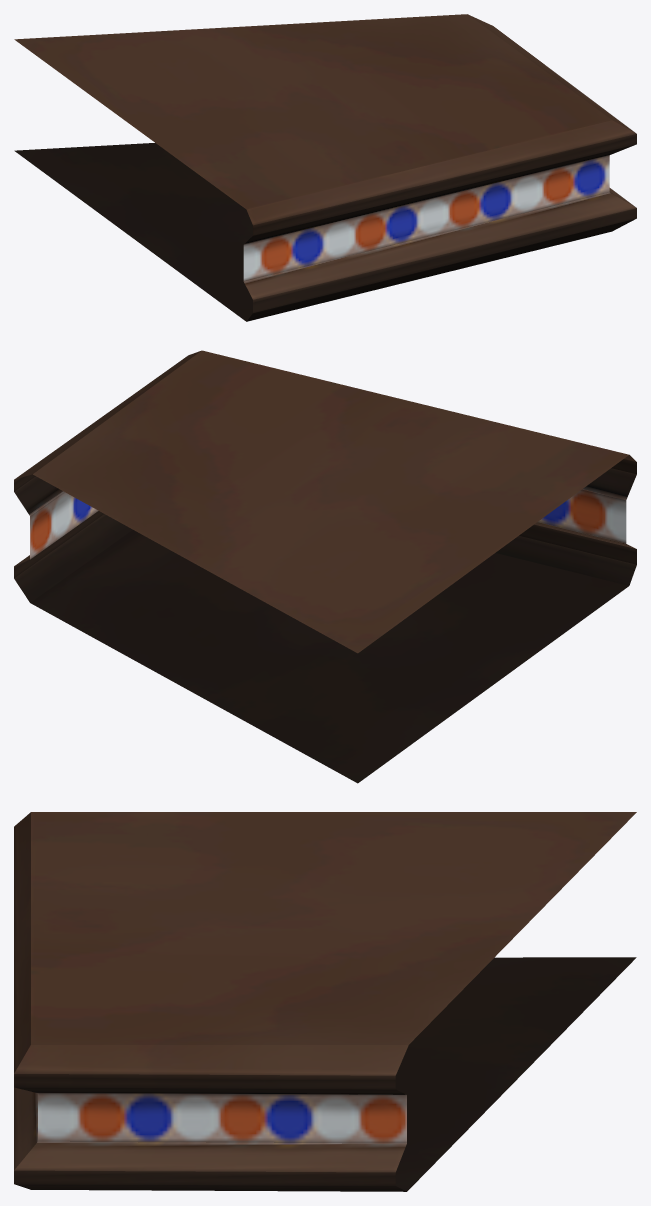
The model's file is em_wall_atrium_door_crossbeam.fbx.
The picture shows the model from 3 angles, top to bottom: view 1: azimuth 30°, elevation 25°; view 2: azimuth 150°, elevation 25°; view 3: azimuth 270°, elevation 25°; orthographic projection. The views are drawn at different scales.
Parts seen in each view (by area): view 1: em_wall_atrium_door_crossbeam; view 2: em_wall_atrium_door_crossbeam; view 3: em_wall_atrium_door_crossbeam.
Part boxes in pixels (bbox=[...]): em_wall_atrium_door_crossbeam: bbox=[14, 14, 636, 321]; em_wall_atrium_door_crossbeam: bbox=[14, 350, 636, 783]; em_wall_atrium_door_crossbeam: bbox=[14, 812, 636, 1191].
Size of the model in its own units: 3.64 by 1.01 by 3.89.
